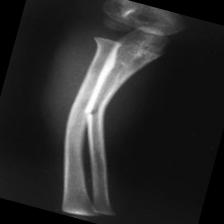greenstick-fracture: (6, 0, 189, 224)
